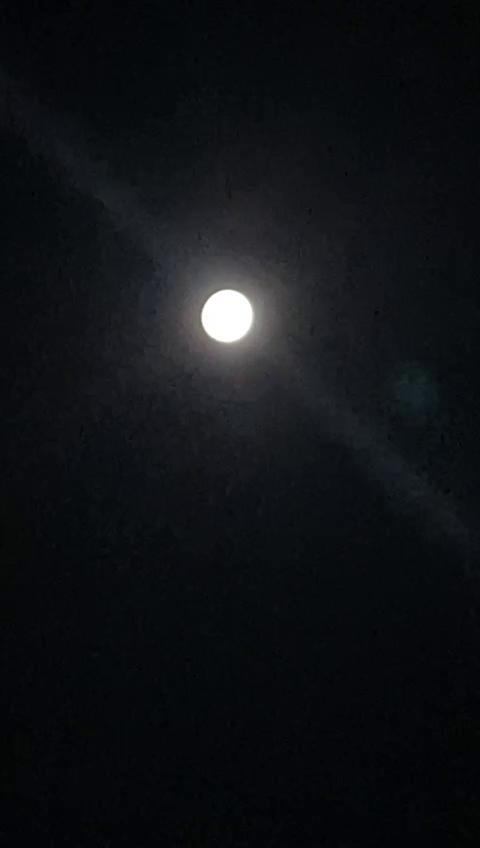moon: (182, 283, 269, 360)
